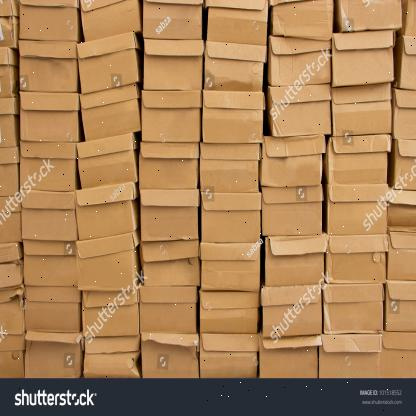box: (76, 31, 139, 94), (79, 84, 141, 141), (77, 133, 138, 189), (76, 182, 134, 240), (77, 232, 135, 289), (333, 31, 394, 85), (270, 85, 331, 138), (144, 38, 204, 91), (200, 193, 261, 245), (325, 235, 389, 284), (141, 188, 200, 241), (203, 92, 263, 144), (331, 83, 391, 135), (265, 236, 325, 288), (323, 283, 384, 334), (261, 186, 323, 236), (262, 137, 326, 185), (326, 135, 390, 183), (142, 89, 201, 141), (18, 40, 77, 92), (261, 287, 323, 336), (328, 184, 387, 235), (19, 92, 79, 142), (270, 37, 331, 86), (199, 244, 261, 292), (20, 190, 77, 242), (201, 142, 259, 192), (138, 286, 198, 334), (207, 0, 268, 47), (140, 239, 200, 286), (318, 336, 382, 380), (201, 332, 259, 380), (205, 44, 265, 90), (139, 142, 199, 188), (20, 141, 76, 190), (24, 285, 80, 333), (140, 334, 198, 380), (79, 0, 141, 43), (271, 0, 333, 42), (259, 334, 318, 378), (24, 334, 82, 378), (200, 291, 259, 334), (83, 290, 138, 336), (23, 240, 78, 286), (143, 0, 203, 41), (84, 336, 141, 379), (18, 0, 78, 40), (340, 0, 402, 31), (381, 332, 416, 378), (385, 282, 416, 330), (388, 232, 416, 282), (0, 287, 24, 336), (393, 90, 416, 141), (388, 192, 416, 232), (394, 140, 416, 188), (0, 336, 24, 380), (0, 242, 22, 286), (0, 196, 21, 242), (0, 146, 19, 195), (401, 35, 416, 89), (0, 47, 15, 98), (0, 97, 15, 147), (0, 0, 15, 48)
